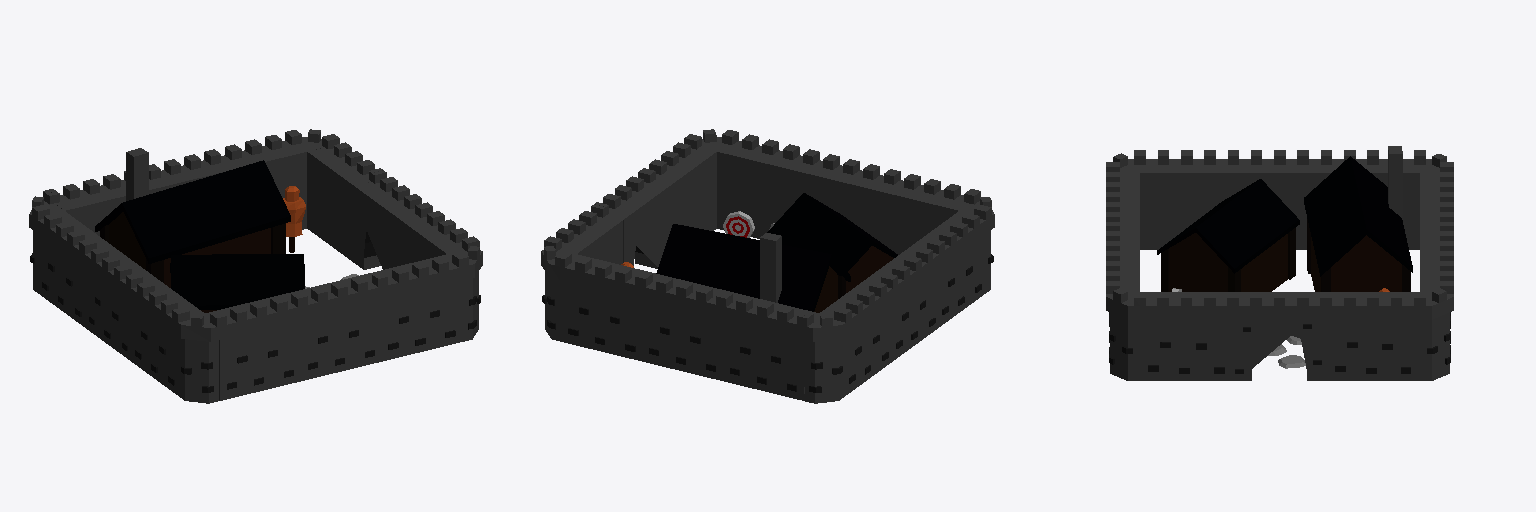
Rendered from barracks.obj.
3 renders of one model, left to right at view 1: azimuth 30°, elevation 25°; view 2: azimuth 150°, elevation 25°; view 3: azimuth 270°, elevation 25°, orthographic.
Parts seen in each view (by area): view 1: Wall_WallBricks_Cube.007, House2_Cube.010, House1_Cube.011, Chimney_Cube.013, Dummy_Cylinder.079; view 2: Wall_WallBricks_Cube.007, House2_Cube.010, House1_Cube.011, Chimney_Cube.013, Target_Cylinder.001; view 3: Wall_WallBricks_Cube.007, House1_Cube.011, House2_Cube.010, Chimney_Cube.013.
Part boxes in pixels (x1,y1,x2,y2): Wall_WallBricks_Cube.007: (29, 129, 482, 403); House2_Cube.010: (95, 160, 290, 287); House1_Cube.011: (170, 254, 304, 312); Chimney_Cube.013: (126, 148, 148, 200); Dummy_Cylinder.079: (283, 186, 305, 252); Wall_WallBricks_Cube.007: (541, 129, 994, 403); House2_Cube.010: (656, 224, 850, 312); House1_Cube.011: (767, 193, 897, 292); Chimney_Cube.013: (760, 233, 781, 302); Target_Cylinder.001: (723, 211, 754, 237); Wall_WallBricks_Cube.007: (1106, 150, 1453, 380); House1_Cube.011: (1157, 179, 1299, 291); House2_Cube.010: (1304, 156, 1412, 291); Chimney_Cube.013: (1388, 146, 1402, 219).
Bounding box in the file's own units: 5.72 × 2.76 × 5.72.